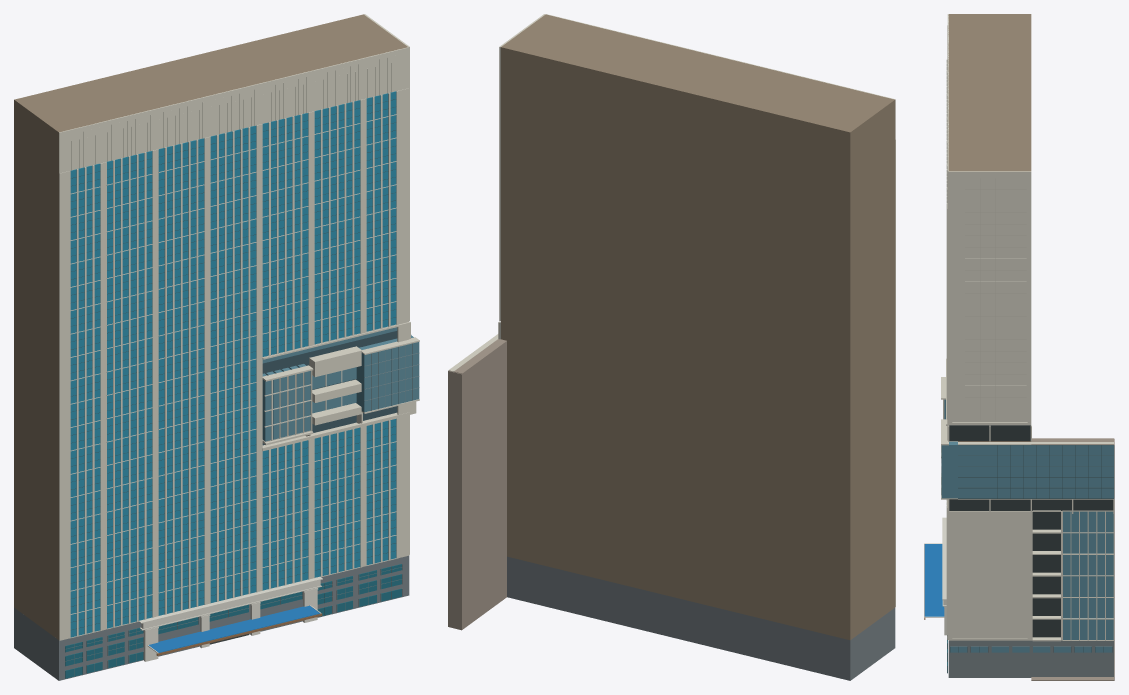
Rendered from detail.glb.
3 renders of one model, left to right at view 1: azimuth 30°, elevation 25°; view 2: azimuth 150°, elevation 25°; view 3: azimuth 270°, elevation 25°, orthographic. The views are drawn at different scales.
Parts seen in each view (by area): view 1: Xuguang_OBSERVED_blue_glass_approx_color, Xuguang_OBSERVED_warm_offwhite_frame, F_CORE_ABOVE8_UNCHANGED_SURFACES_NEW_BOTTOM_CAP, Xuguang_APPROX_blue_glass, Xuguang_OBSERVED_dark_fine_transom, G_gray_commercial_stone_proxy, G_visible_blue_glass_closed_proxy, G_white_portal_visible, G_canopy_blue_proxy, Xuguang_OBSERVED_eight_darker_vertical_bands, G_window_frame, Xuguang_OBSERVED_fine_mullions_not_coarse_bands; view 2: F_CORE_ABOVE8_UNCHANGED_SURFACES_NEW_BOTTOM_CAP, G_gray_commercial_stone_proxy, H_UNKNOWN_inner_and_rear_technical_closure, Xuguang_OBSERVED_warm_offwhite_frame; view 3: Xuguang_OBSERVED_warm_offwhite_frame, Xuguang_APPROX_blue_glass, F_CORE_ABOVE8_UNCHANGED_SURFACES_NEW_BOTTOM_CAP, H_visible_recess_dark_backing_NOT_INTERIOR, G_gray_commercial_stone_proxy, Xuguang_OBSERVED_dark_fine_transom, I_upper_endwall_shallow_panel_joint_proxy, G_canopy_blue_proxy, H_UNKNOWN_inner_and_rear_technical_closure, G_white_portal_visible.
Part boxes in pixels (x1,y1,x2,y2): Xuguang_OBSERVED_blue_glass_approx_color: (70, 91, 396, 637); Xuguang_OBSERVED_warm_offwhite_frame: (59, 14, 419, 640); F_CORE_ABOVE8_UNCHANGED_SURFACES_NEW_BOTTOM_CAP: (14, 14, 407, 639); Xuguang_APPROX_blue_glass: (262, 327, 419, 441); Xuguang_OBSERVED_dark_fine_transom: (71, 99, 395, 629); G_gray_commercial_stone_proxy: (14, 555, 409, 680); G_visible_blue_glass_closed_proxy: (65, 564, 401, 678); G_white_portal_visible: (138, 576, 322, 661); G_canopy_blue_proxy: (148, 605, 320, 652); Xuguang_OBSERVED_eight_darker_vertical_bands: (262, 331, 397, 445); G_window_frame: (65, 564, 402, 678); Xuguang_OBSERVED_fine_mullions_not_coarse_bands: (364, 343, 419, 410); F_CORE_ABOVE8_UNCHANGED_SURFACES_NEW_BOTTOM_CAP: (501, 14, 895, 640); G_gray_commercial_stone_proxy: (507, 556, 895, 680); H_UNKNOWN_inner_and_rear_technical_closure: (448, 339, 506, 630); Xuguang_OBSERVED_warm_offwhite_frame: (448, 14, 895, 606); Xuguang_OBSERVED_warm_offwhite_frame: (941, 14, 1113, 641); Xuguang_APPROX_blue_glass: (941, 399, 1113, 652); F_CORE_ABOVE8_UNCHANGED_SURFACES_NEW_BOTTOM_CAP: (948, 14, 1031, 441); H_visible_recess_dark_backing_NOT_INTERIOR: (949, 425, 1113, 637); G_gray_commercial_stone_proxy: (948, 640, 1113, 677); Xuguang_OBSERVED_dark_fine_transom: (950, 445, 1114, 652); I_upper_endwall_shallow_panel_joint_proxy: (965, 178, 1026, 419); G_canopy_blue_proxy: (924, 544, 944, 616); H_UNKNOWN_inner_and_rear_technical_closure: (1031, 438, 1114, 680); G_white_portal_visible: (924, 517, 946, 635).
Bounding box in the file's own units: 73.61 × 108 × 36.86.
